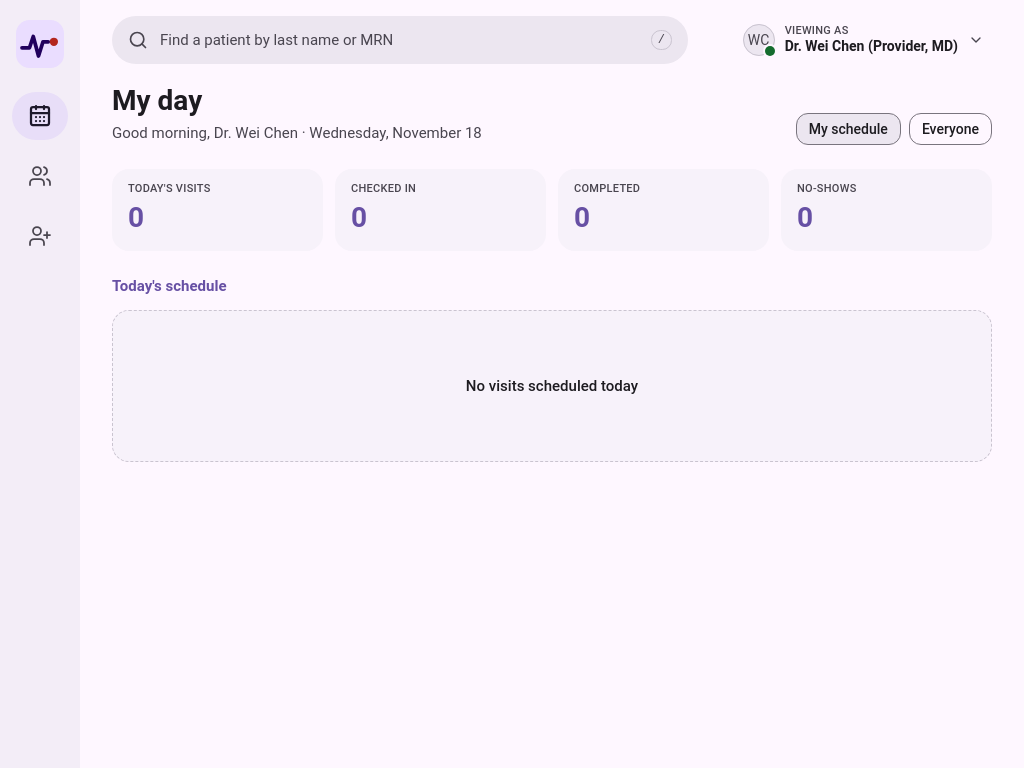
it: app bar search › says what it needs before searching, and when nothing matches
Type "os" into the dropdown labelled "Find a patient" at coordinates (400, 40), box [112,16,688,64]
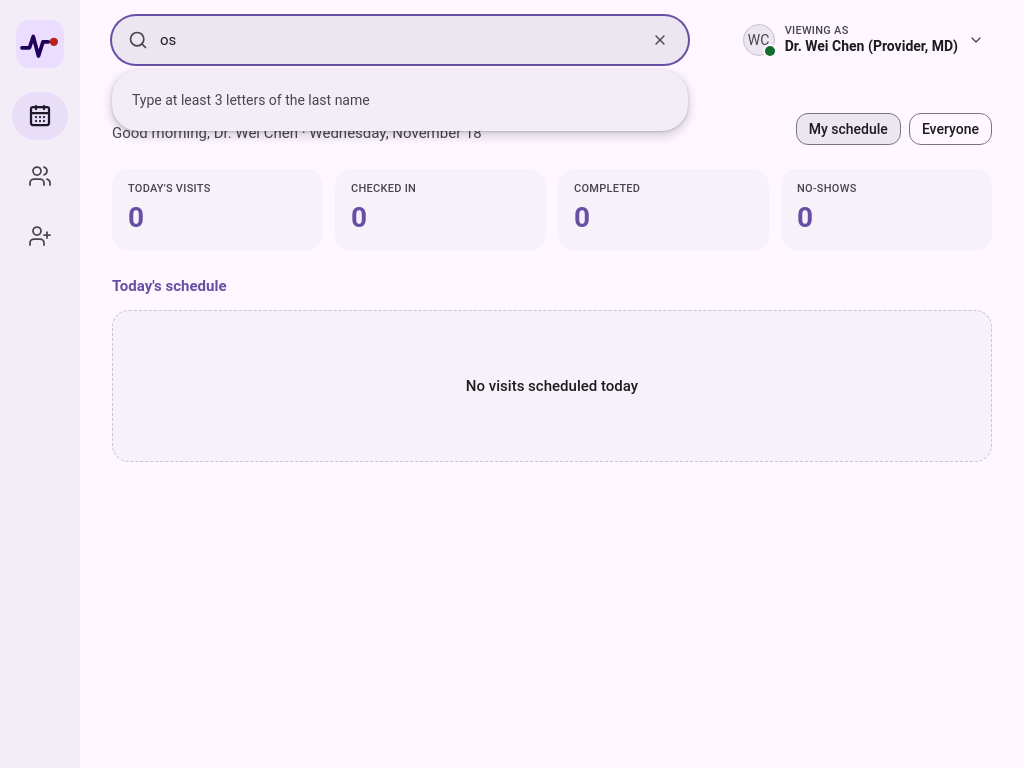
Result: the message shows "Type at least 3 letters" at [132,92,370,108]
Type "zz" into the dropdown named "Find a patient" at coordinates (400, 40), box [112,16,688,64]
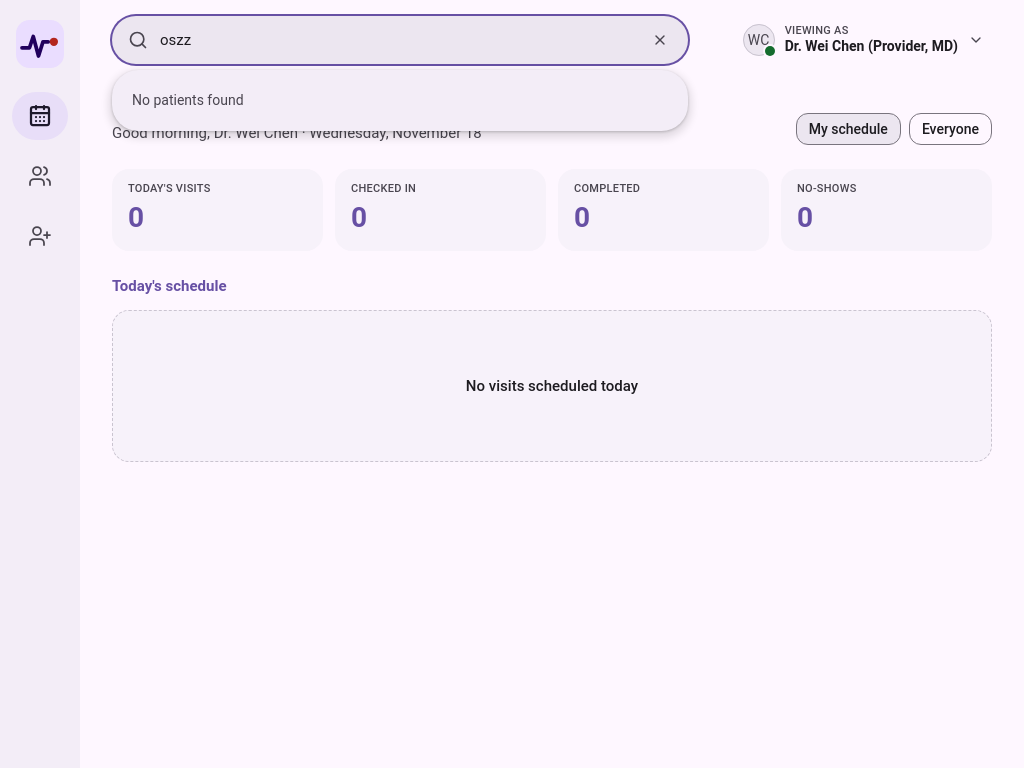
Result: the text "No patients found" is shown at [132,92,244,108]
